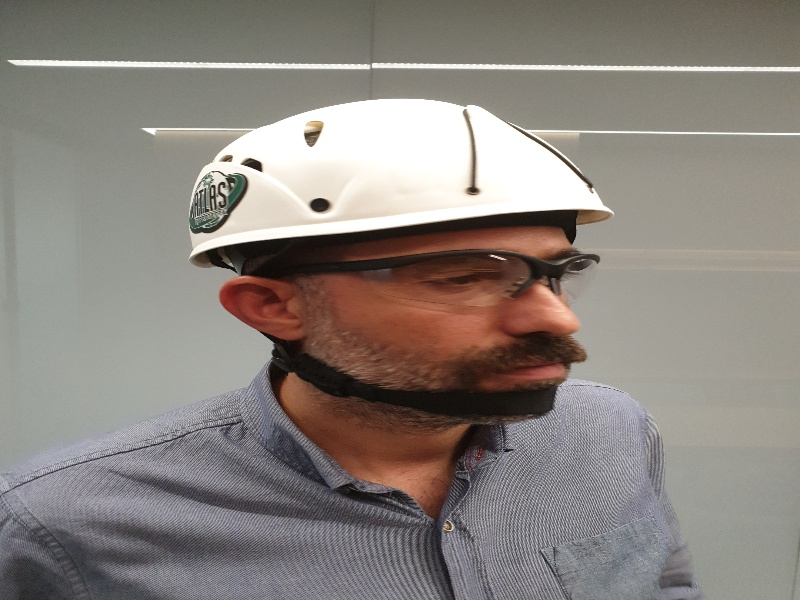Baret: (180, 98, 614, 247)
Gozluk: (280, 253, 603, 304)
